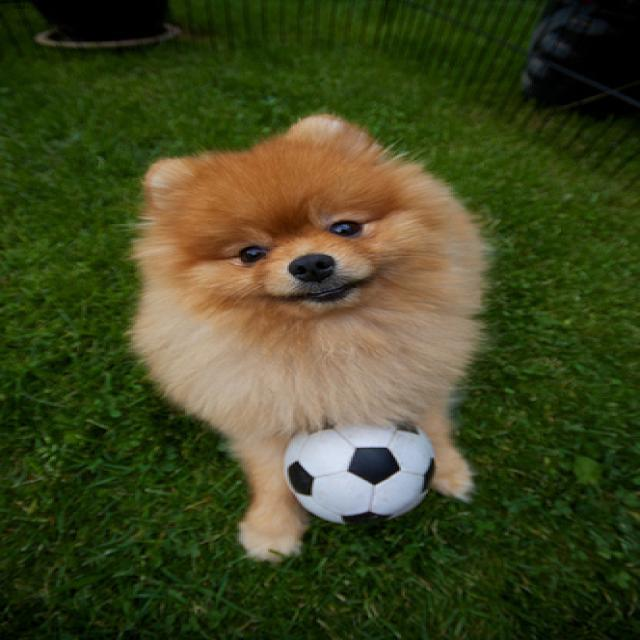dog-pomeranian: (120, 102, 497, 566)
